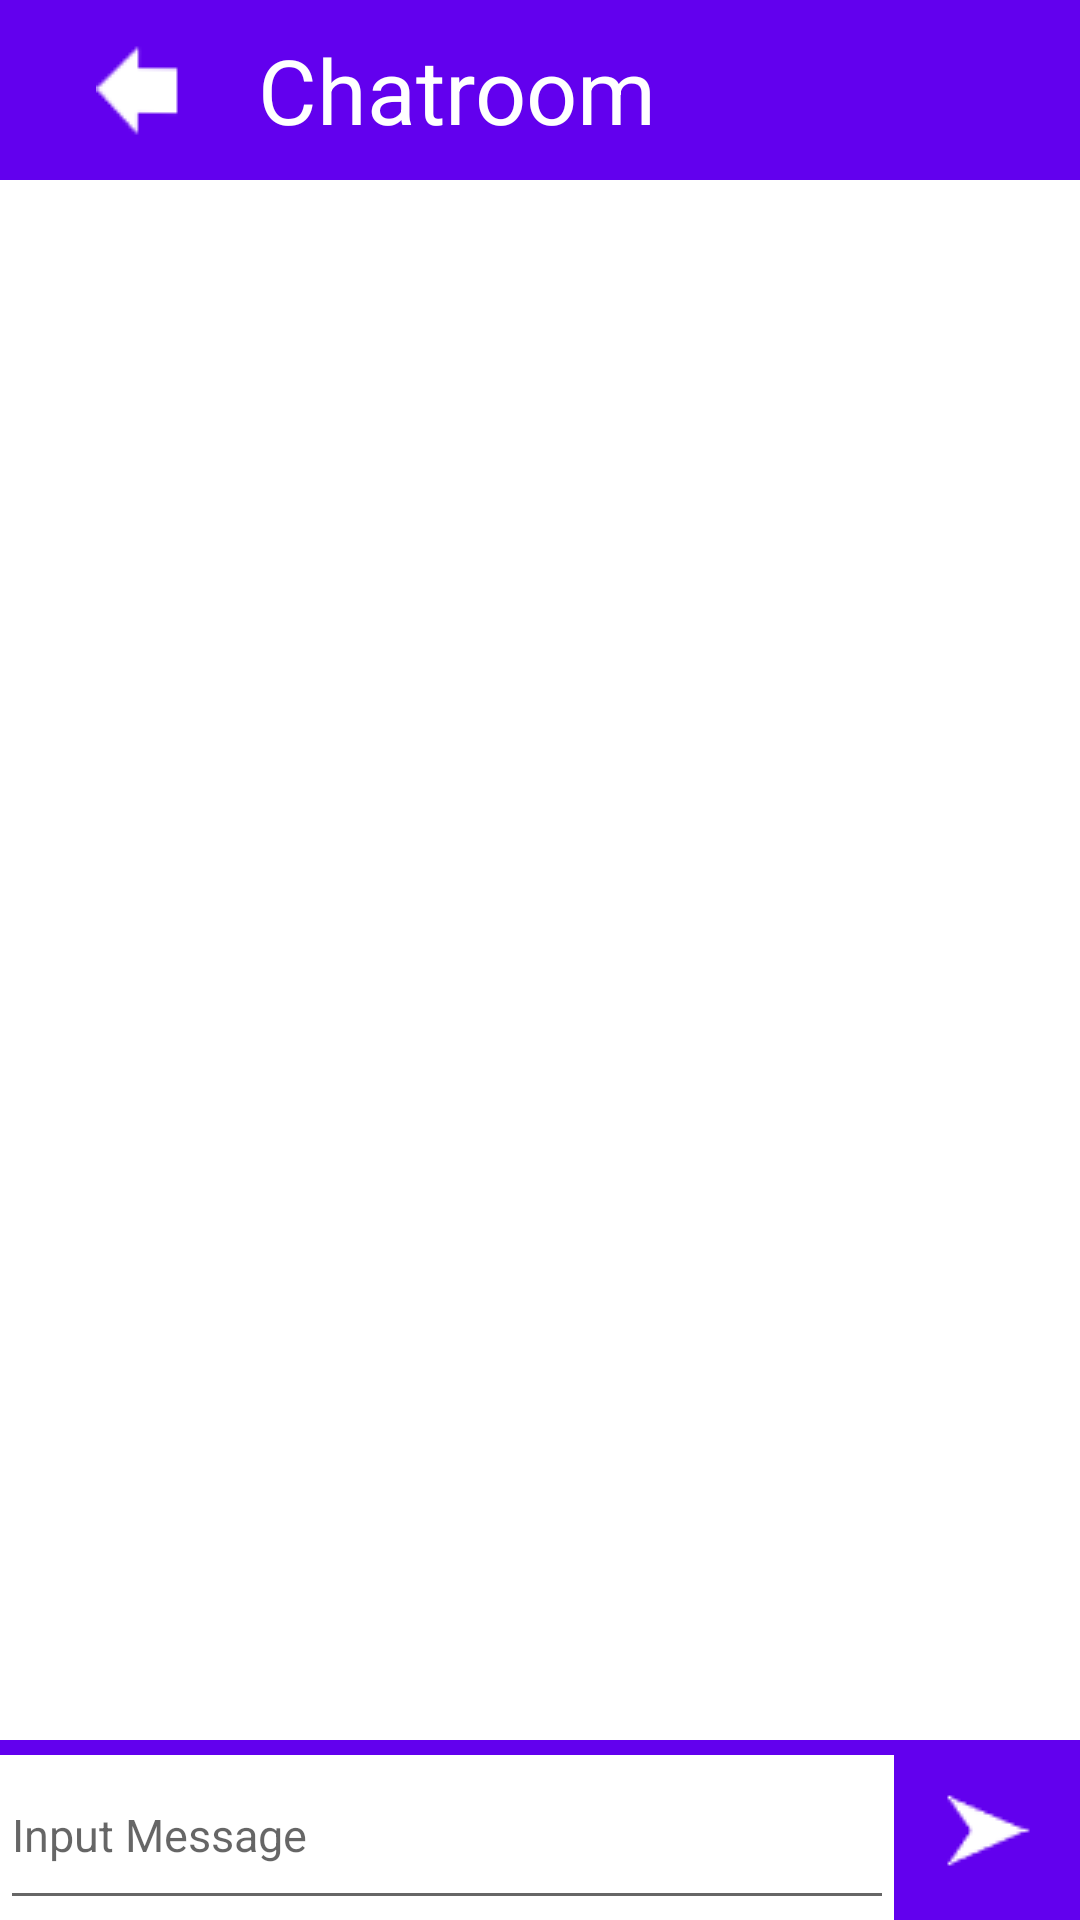

Screen size 1080px×1920px. Icon name, then its center in pixels as point (x, y):
backbtn: point (137, 90)
Send: point (987, 1830)
